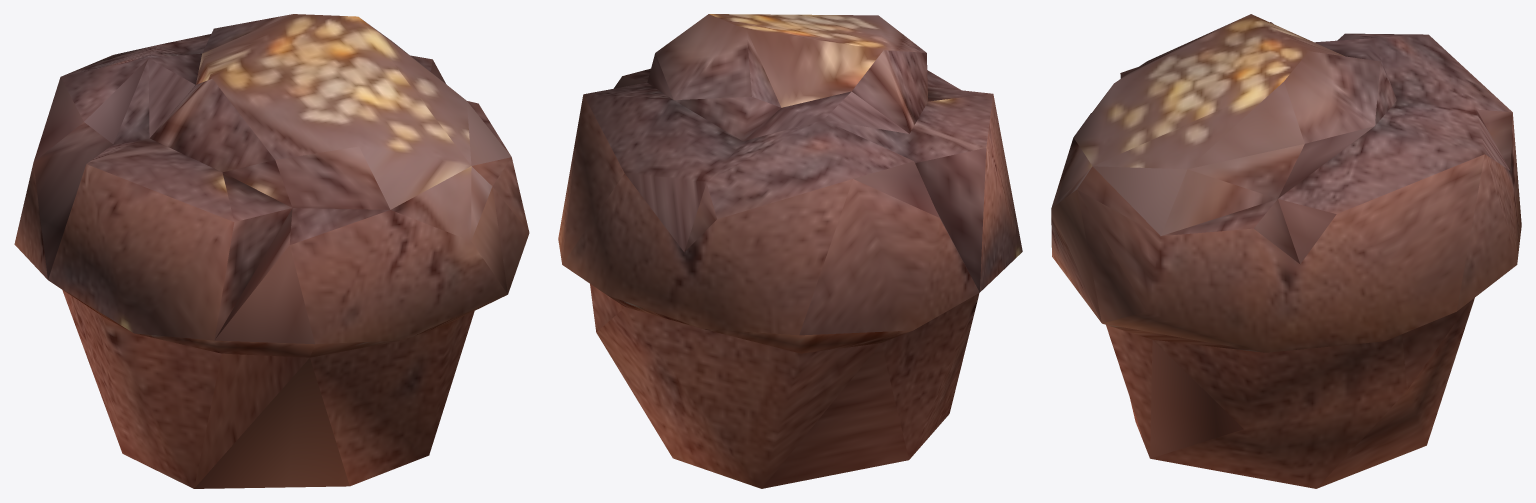
File: muffin_134.obj
3 renders of one model, left to right at view 1: azimuth 30°, elevation 25°; view 2: azimuth 150°, elevation 25°; view 3: azimuth 270°, elevation 25°, orthographic. The views are drawn at different scales.
Size of the model in its own units: 14.15 by 13.04 by 14.25.
Materials: 1 (1 with a texture image).
